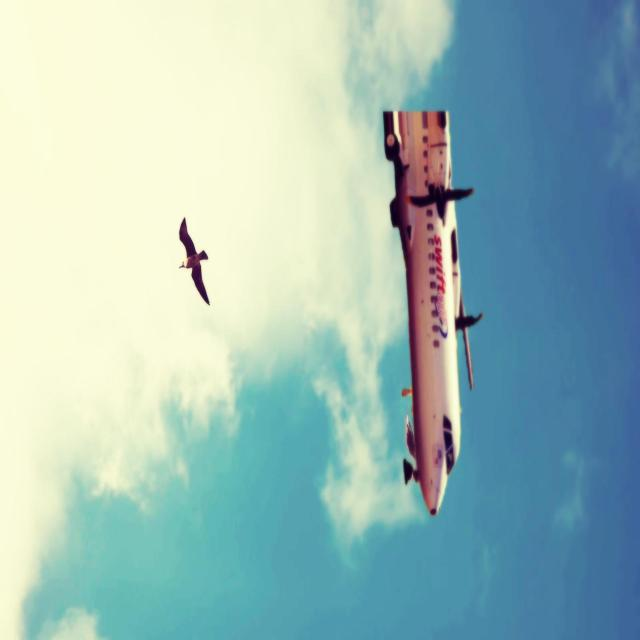airplane: (382, 108, 483, 515)
